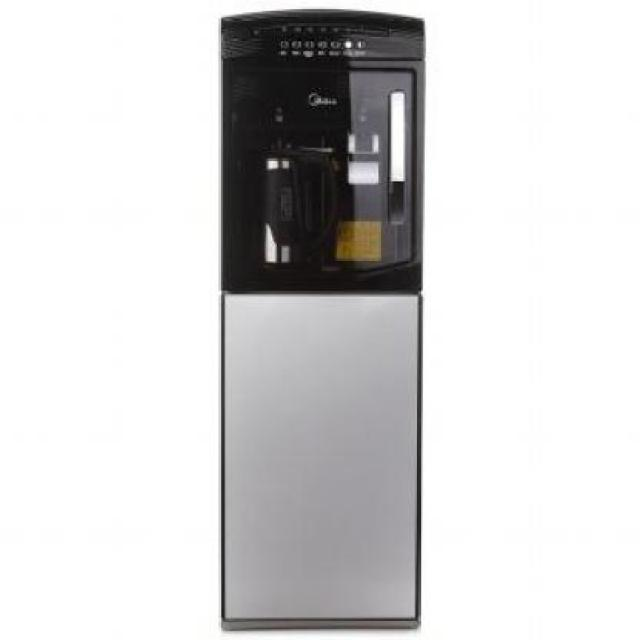cooler: (214, 0, 425, 637)
